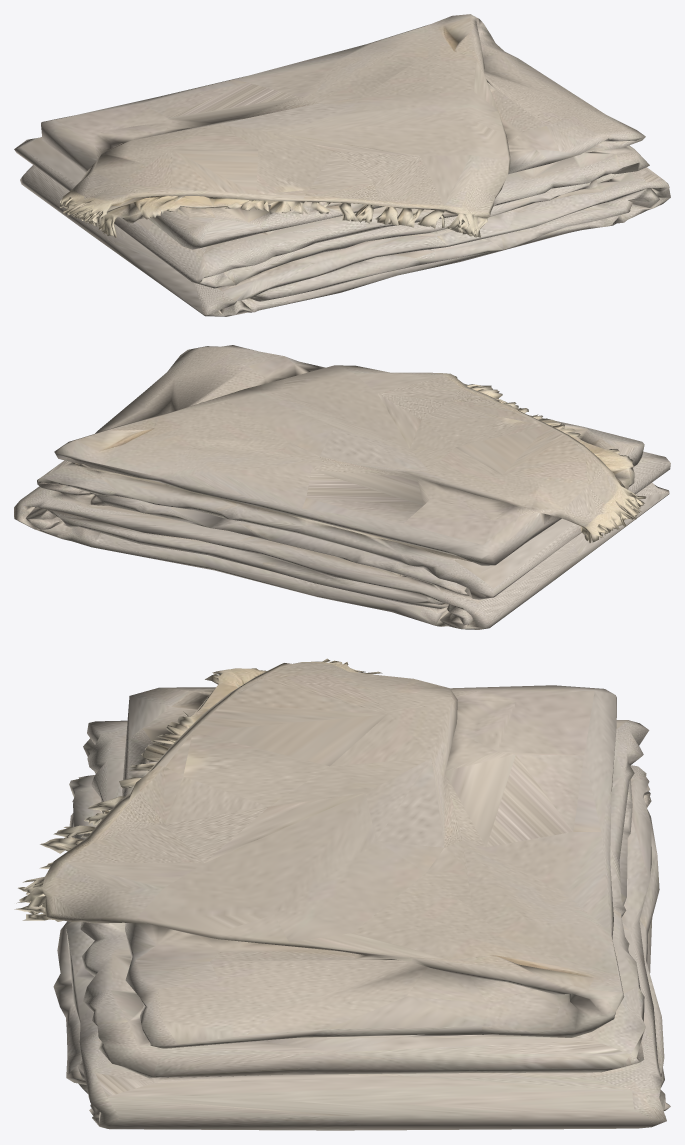
The model's file is folded-throw.glb.
3 views of the same model, one above another, from view 1: azimuth 30°, elevation 25°; view 2: azimuth 150°, elevation 25°; view 3: azimuth 270°, elevation 25° (orthographic). The views are drawn at different scales.
Visible parts, largest first — view 1: Mesh_0; view 2: Mesh_0; view 3: Mesh_0.
Boxes of the visible parts, x1,y1,x2,y2 form: Mesh_0: (14, 14, 670, 316); Mesh_0: (14, 345, 670, 629); Mesh_0: (14, 658, 670, 1130).
Bounding box in the file's own units: 0.4503 × 0.0749 × 0.3204.
1 material, 1 textured.
